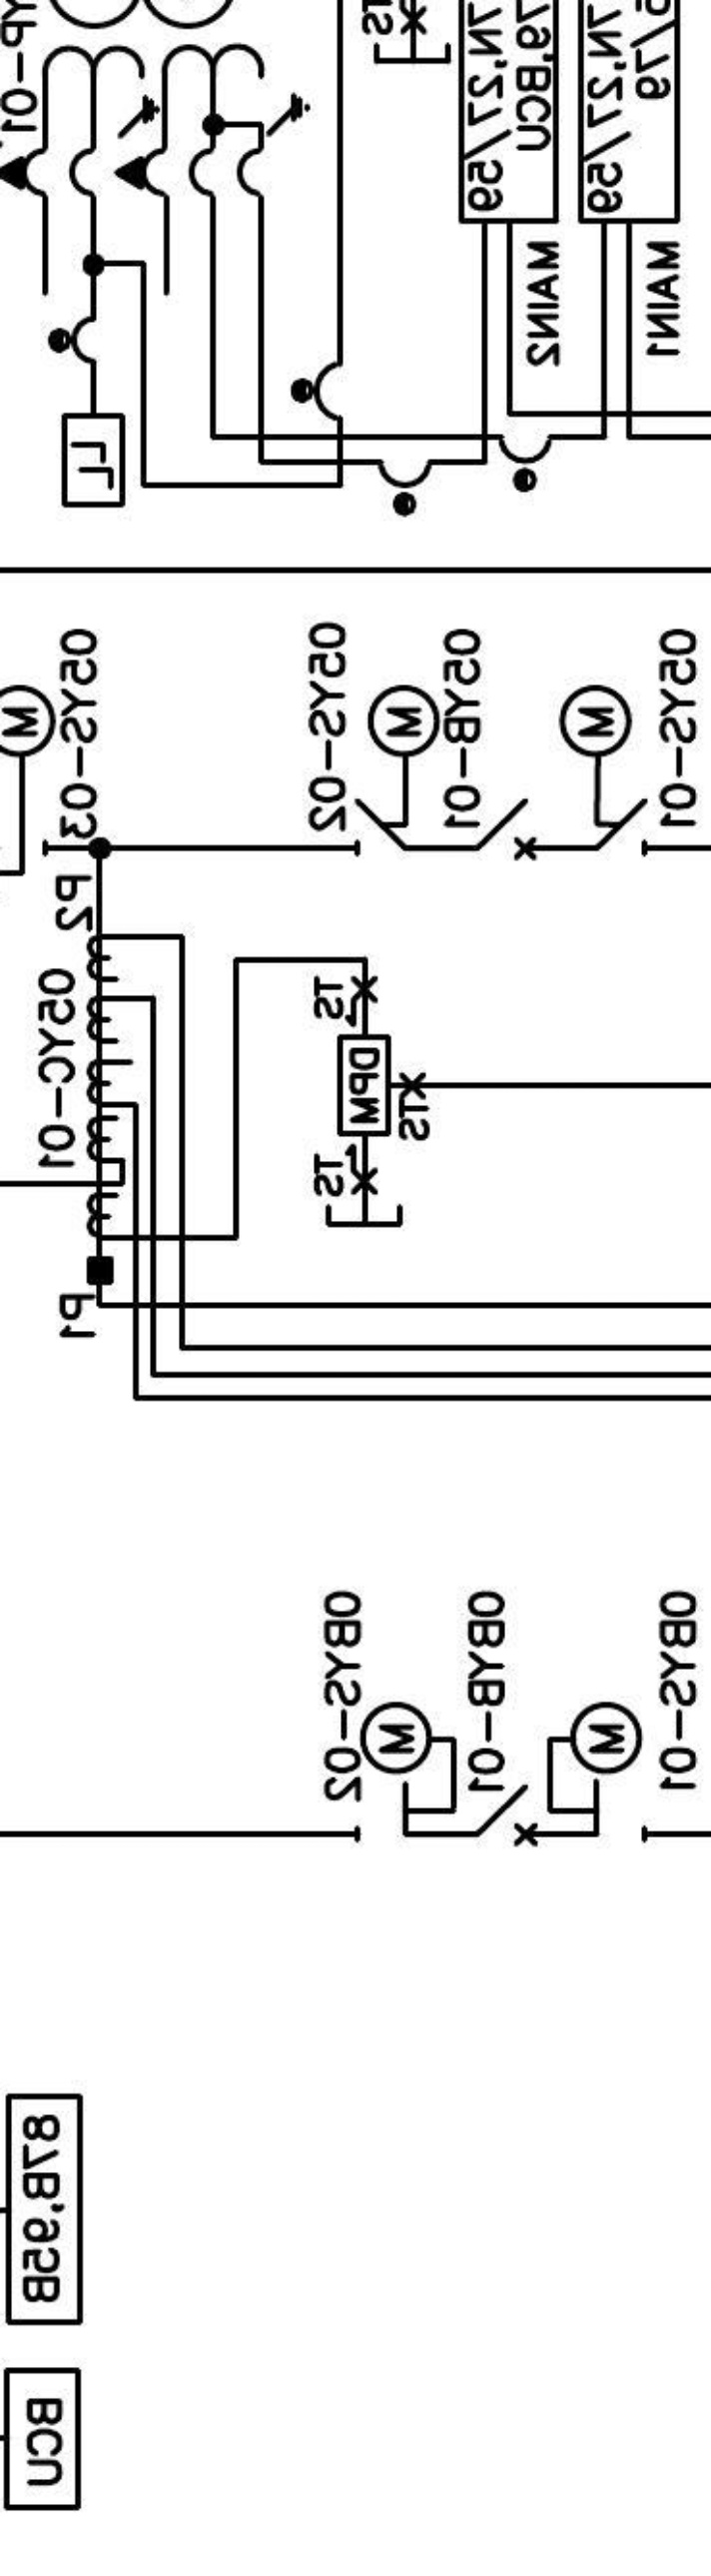115_1way_ds_w_motor: (557, 683, 649, 859), (353, 683, 442, 858), (353, 1700, 458, 1843), (547, 1700, 649, 1845)
115_breaker: (475, 1784, 539, 1848), (475, 797, 539, 861)
BCU: (2, 2366, 82, 2512)
DPM: (337, 1033, 392, 1137)
LL: (61, 412, 126, 509)
